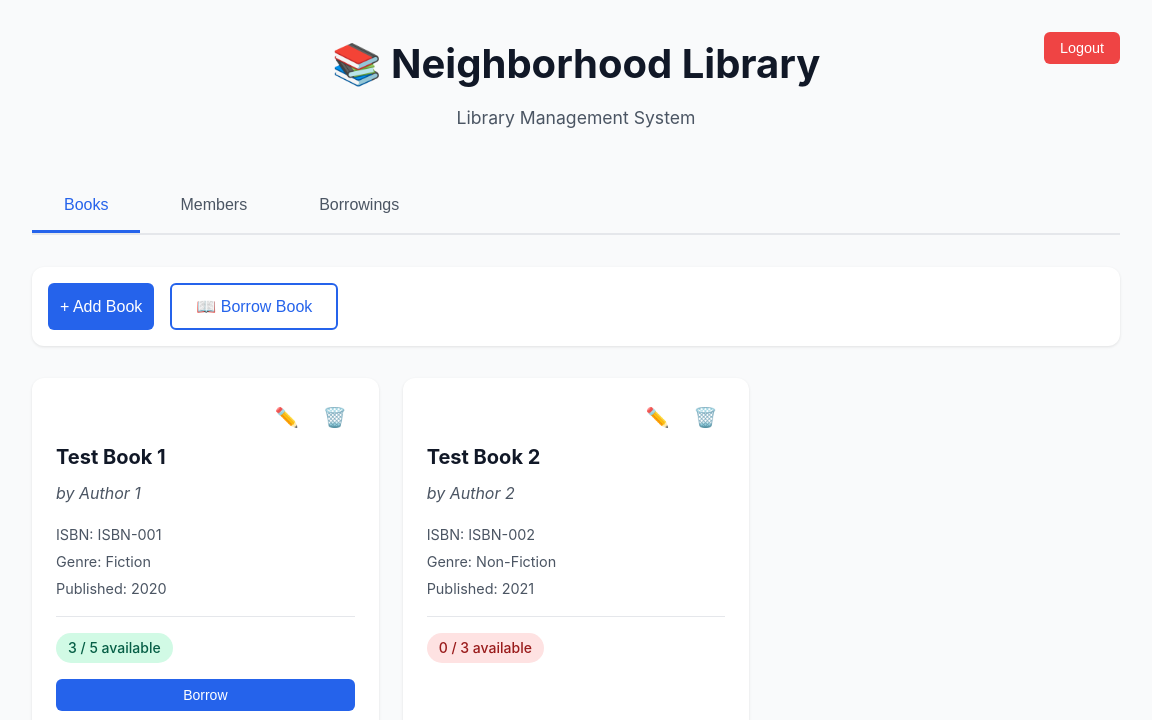
Test: Home Page › Borrow Modal - Load All Data › should show members list in borrow modal
Click the button "📖 Borrow Book".
click(254, 307)  # box [170,283,338,330]
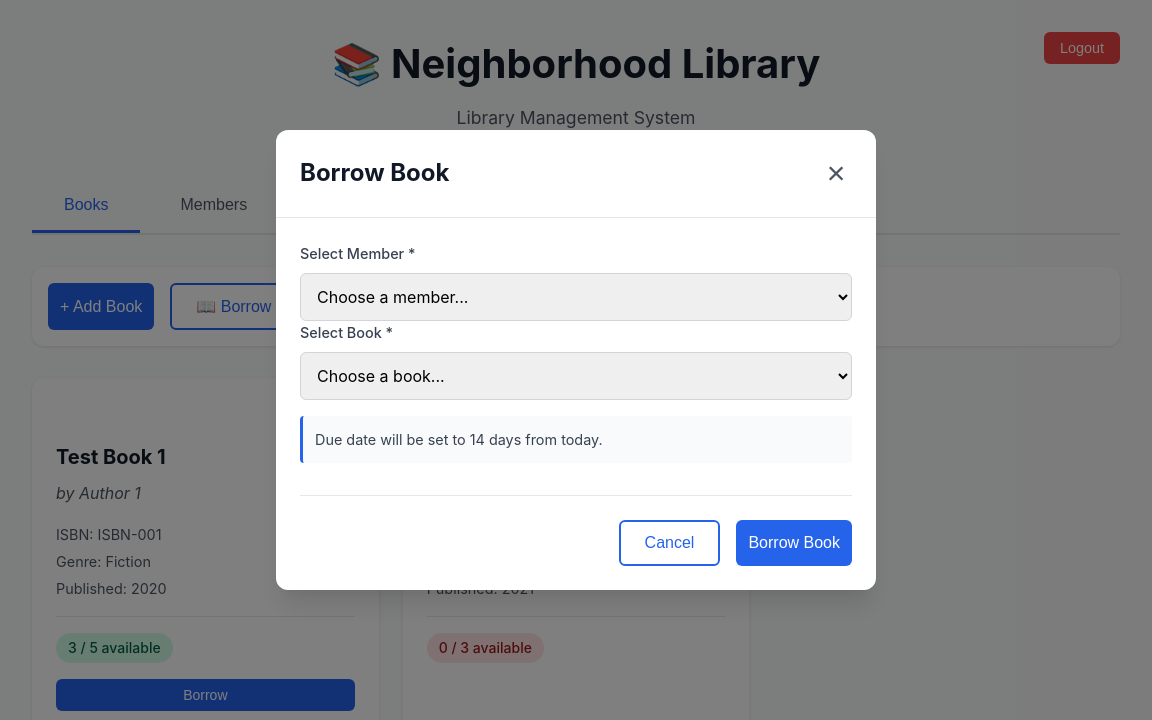
Result: the text "Select Member *" is shown at [300,245,416,262]
